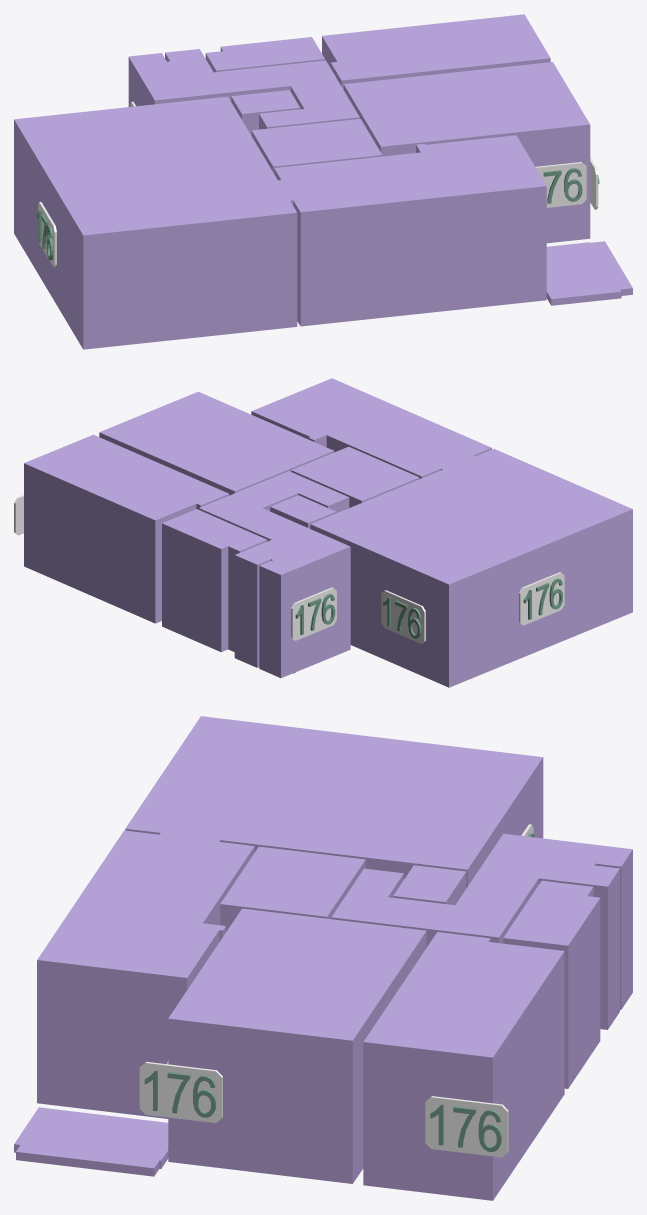
3 views of the same model, one above another, from view 1: azimuth 30°, elevation 25°; view 2: azimuth 150°, elevation 25°; view 3: azimuth 270°, elevation 25° (orthographic). The views are drawn at different scales.
Visible parts, largest first — view 1: g_7, g_6, g_0, g_1, g_3, g_4, g_8, g_2, g_5, g_16, g_12; view 2: g_7, g_1, g_3, g_0, g_6, g_2, g_4, g_32, g_24, g_12, g_5; view 3: g_0, g_7, g_1, g_6, g_3, g_2, g_8, g_4, g_28, g_20, g_5.
Boxes of the visible parts, <box> form: g_7: <box>14,96,297,349</box>; g_6: <box>274,135,546,326</box>; g_0: <box>343,62,590,243</box>; g_1: <box>322,14,550,89</box>; g_3: <box>128,49,359,129</box>; g_4: <box>251,118,382,172</box>; g_8: <box>546,241,632,305</box>; g_2: <box>205,37,324,72</box>; g_5: <box>231,90,300,135</box>; g_16: <box>535,162,586,207</box>; g_12: <box>38,202,56,267</box>; g_7: <box>310,449,632,687</box>; g_1: <box>24,434,229,623</box>; g_3: <box>199,471,350,677</box>; g_0: <box>99,391,334,495</box>; g_6: <box>251,378,491,478</box>; g_2: <box>162,509,267,652</box>; g_4: <box>291,446,419,507</box>; g_32: <box>291,587,336,640</box>; g_24: <box>381,590,425,643</box>; g_12: <box>519,572,564,625</box>; g_5: <box>270,495,336,528</box>; g_0: <box>168,908,426,1183</box>; g_7: <box>125,716,543,888</box>; g_1: <box>363,932,564,1200</box>; g_6: <box>37,830,254,1118</box>; g_3: <box>331,833,632,1029</box>; g_2: <box>503,880,600,1088</box>; g_8: <box>14,1107,168,1176</box>; g_4: <box>220,846,365,931</box>; g_28: <box>425,1096,508,1157</box>; g_20: <box>139,1061,222,1123</box>; g_5: <box>393,865,466,904</box>.
Size of the model in its own units: 13.3 by 2.74 by 10.08.
